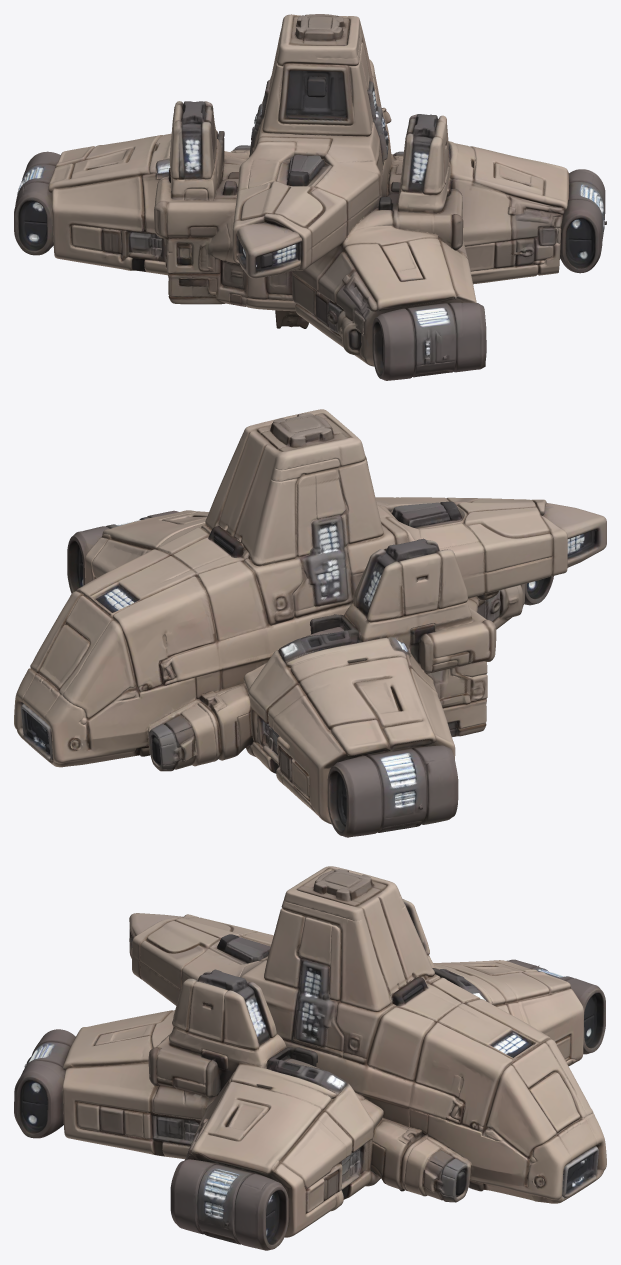
Rendered from mom.glb.
3 renders of one model, top to bottom at view 1: azimuth 30°, elevation 25°; view 2: azimuth 150°, elevation 25°; view 3: azimuth 270°, elevation 25°, orthographic. The views are drawn at different scales.
Parts seen in each view (by area): view 1: tripo_node_28e2e38b-cea4-4be2-98e6-d1d99409813b; view 2: tripo_node_28e2e38b-cea4-4be2-98e6-d1d99409813b; view 3: tripo_node_28e2e38b-cea4-4be2-98e6-d1d99409813b.
Boxes of the visible parts, <box> form: tripo_node_28e2e38b-cea4-4be2-98e6-d1d99409813b: <box>14,14,606,380</box>; tripo_node_28e2e38b-cea4-4be2-98e6-d1d99409813b: <box>14,409,606,837</box>; tripo_node_28e2e38b-cea4-4be2-98e6-d1d99409813b: <box>14,866,606,1250</box>.
Bounding box in the file's own units: 0.9369 × 0.5347 × 0.98.
Materials: 1 (1 with a texture image).
